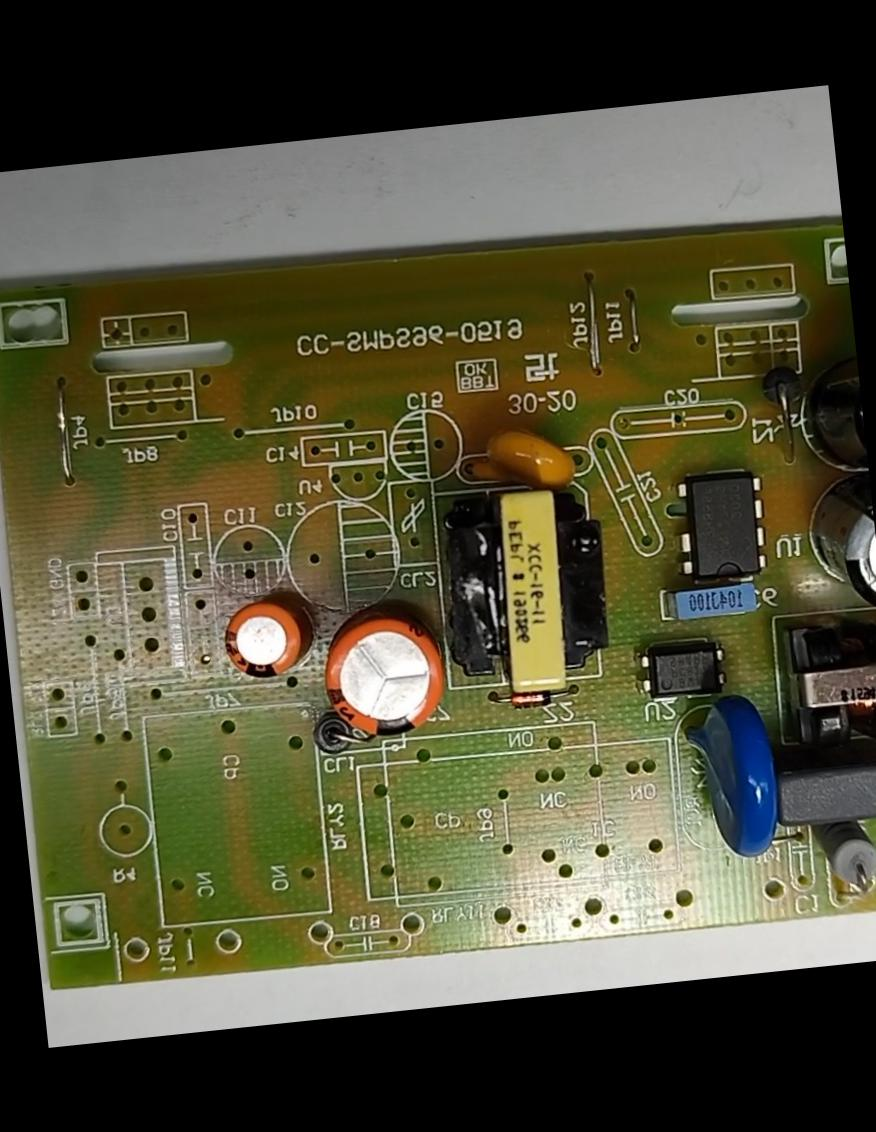Cap1: (310, 606, 457, 750)
Cap2: (214, 595, 314, 692)
Cap3: (792, 486, 875, 628)
Cap4: (790, 338, 868, 490)
MOSFET: (665, 461, 771, 589)
Mov: (677, 692, 785, 872)
Resistor: (810, 821, 875, 917)
Transformer: (426, 476, 625, 708), (776, 613, 875, 754)
